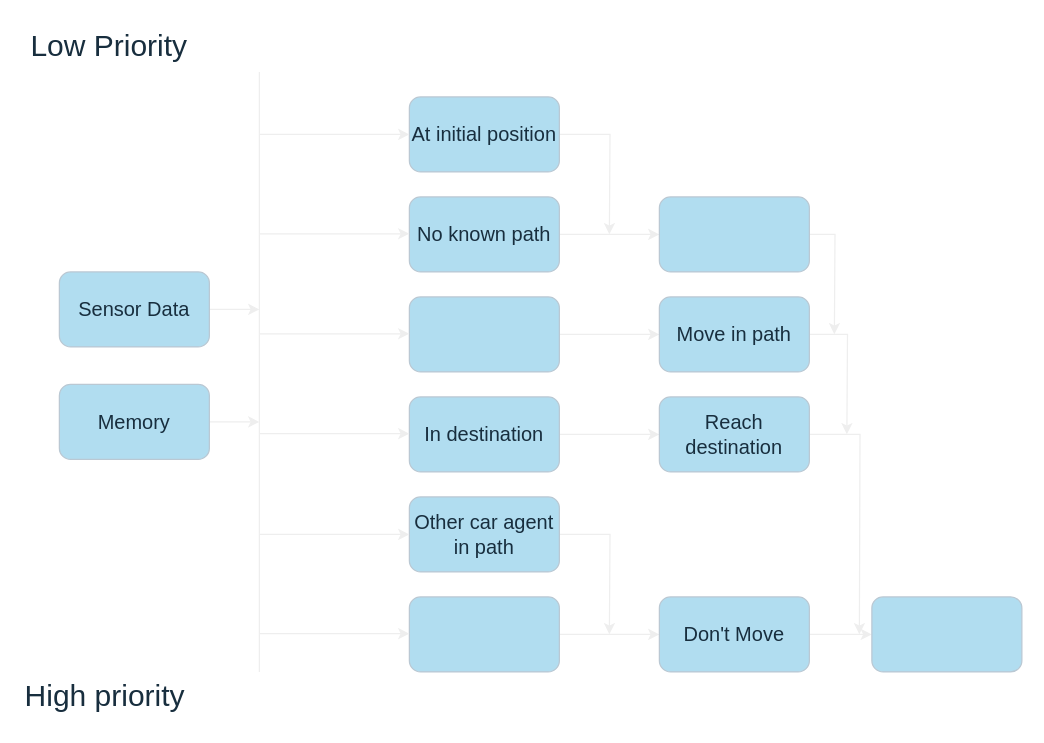
This 1044x743 diagram has some shape labels left out. Each missing label, with the centre of its shape:
"Apply action" belongs at pixel 946 634.
"Find new path" belongs at pixel 733 234.
"Red Light in Front" belongs at pixel 483 634.
"Valid known path" belongs at pixel 483 334.
